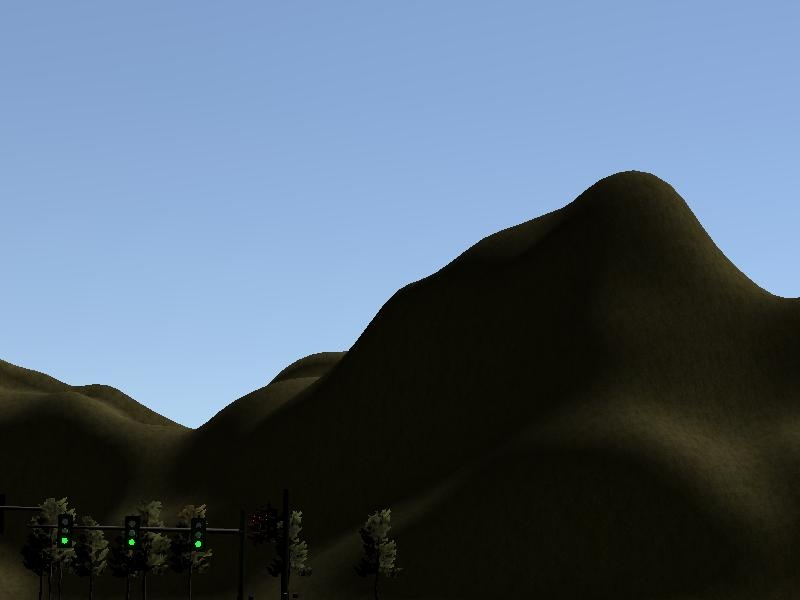GREEN: (53, 512, 75, 549), (123, 514, 141, 550), (190, 516, 206, 552)
